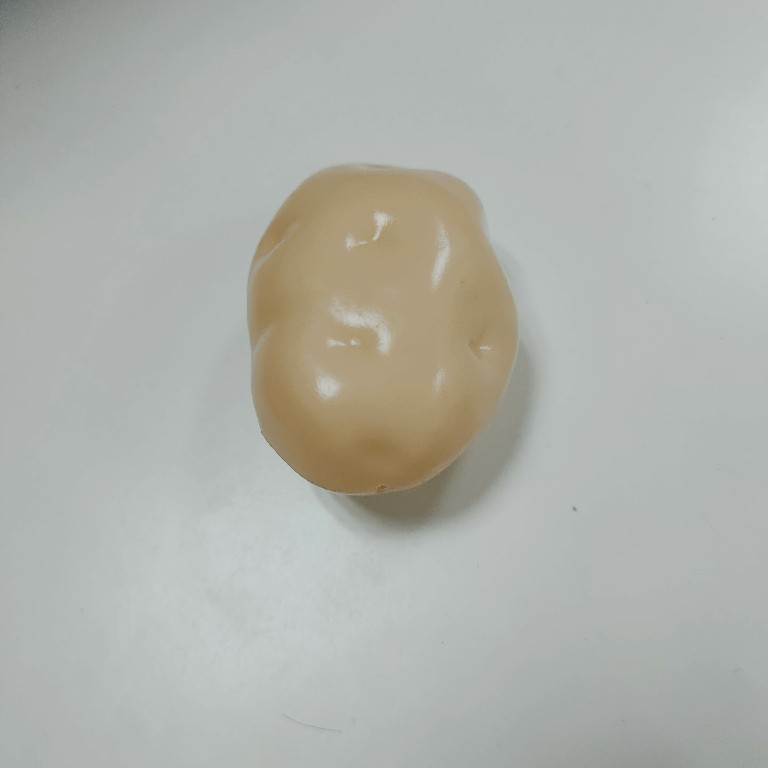fruit_potato: (239, 158, 521, 500)
